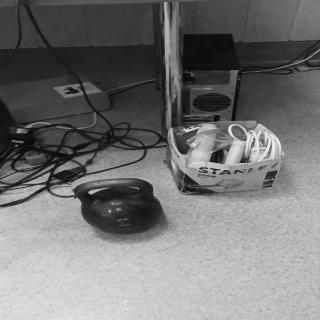kettlebell: (74, 177, 167, 236)
